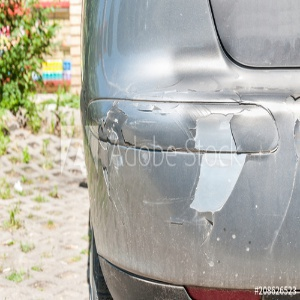bumper_scratch: (99, 67, 296, 136)
